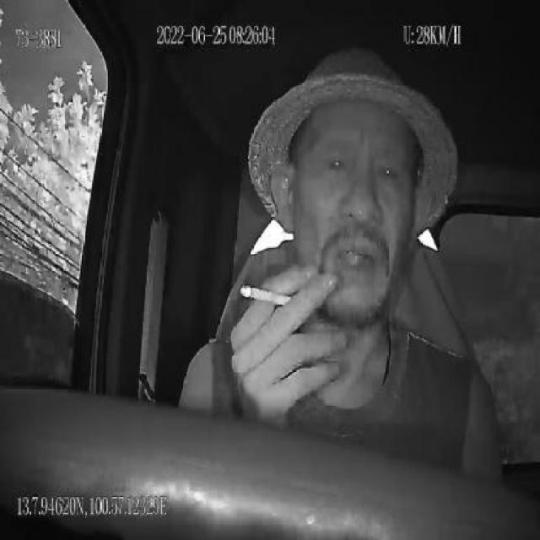smoking: (238, 278, 294, 306)
